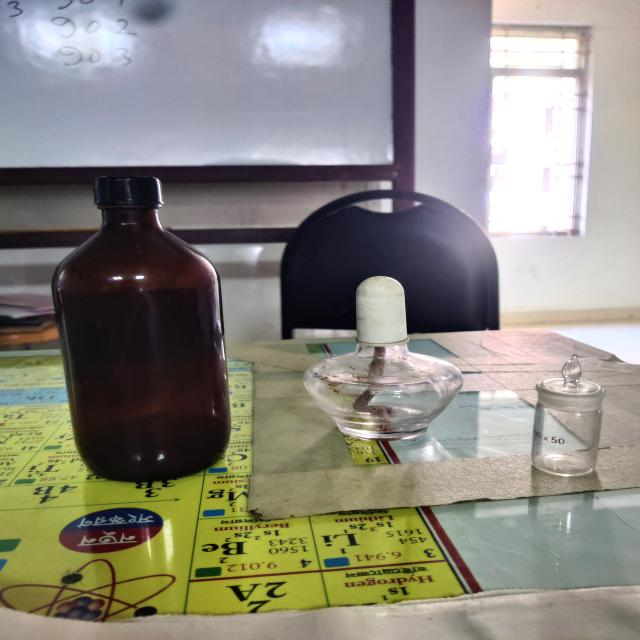Nessler_Reagent_Bottle: (30, 152, 256, 507)
Spirit_Lamp: (282, 245, 476, 456)
Weighing_Bottle: (508, 342, 629, 492)
